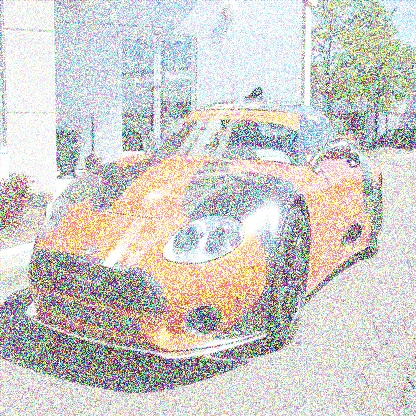Vehicle: (21, 88, 387, 372)
